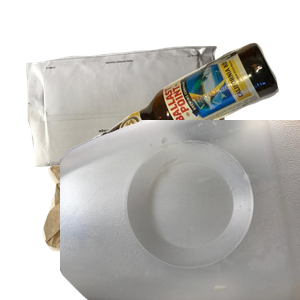glass: (91, 40, 300, 190)
paper: (24, 43, 242, 202)
plastic: (60, 120, 300, 300)
trash: (40, 138, 280, 300)
